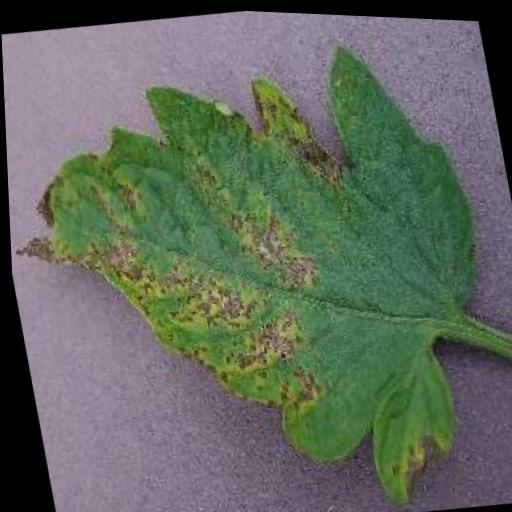Septoria: (1, 15, 512, 512)
